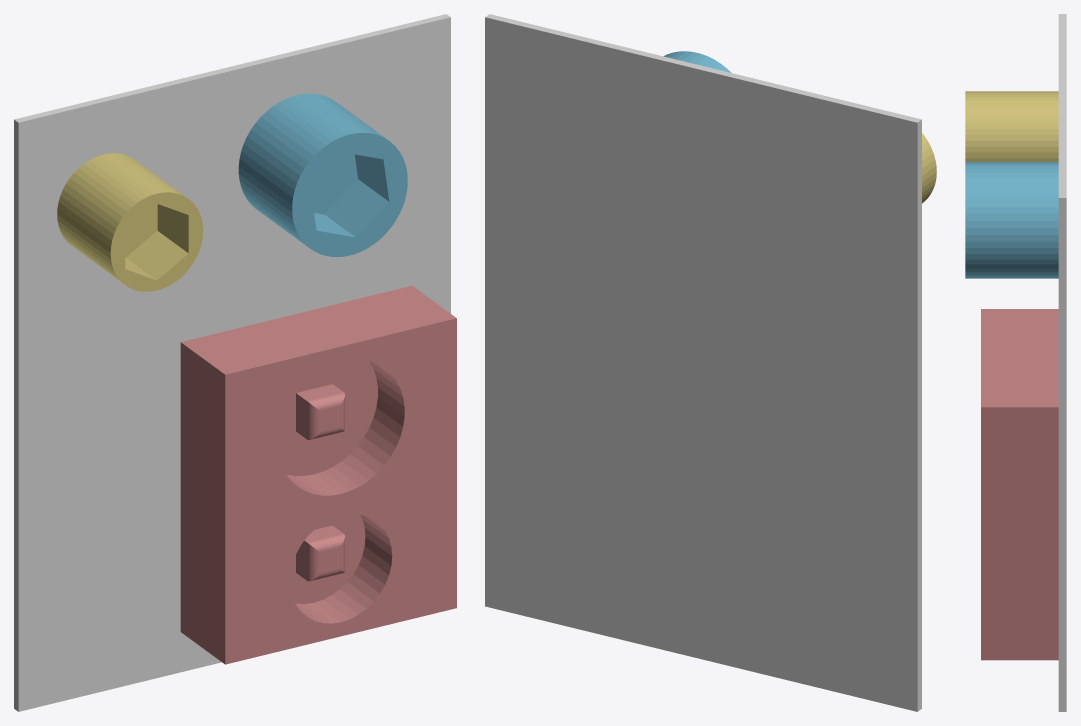
The model's file is pickup_layout.glb.
The picture shows the model from 3 angles, left to right: view 1: azimuth 30°, elevation 25°; view 2: azimuth 150°, elevation 25°; view 3: azimuth 270°, elevation 25°; orthographic projection. The views are drawn at different scales.
Parts seen in each view (by area): view 1: world, 0.obj, 2.obj, 1.obj; view 2: world, 1.obj; view 3: 0.obj, 2.obj, 1.obj, world.
Boxes of the visible parts, box(x1,y1,x2,y2) form: world: box(14, 14, 450, 711); 0.obj: box(180, 285, 456, 664); 2.obj: box(238, 93, 407, 256); 1.obj: box(57, 153, 203, 291); world: box(485, 14, 921, 711); 1.obj: box(922, 133, 936, 203); 0.obj: box(981, 309, 1058, 660); 2.obj: box(965, 162, 1058, 278); 1.obj: box(965, 91, 1058, 161); world: box(1058, 14, 1066, 711).
Bounding box in the file's own units: 11.2 × 14.58 × 2.6.
